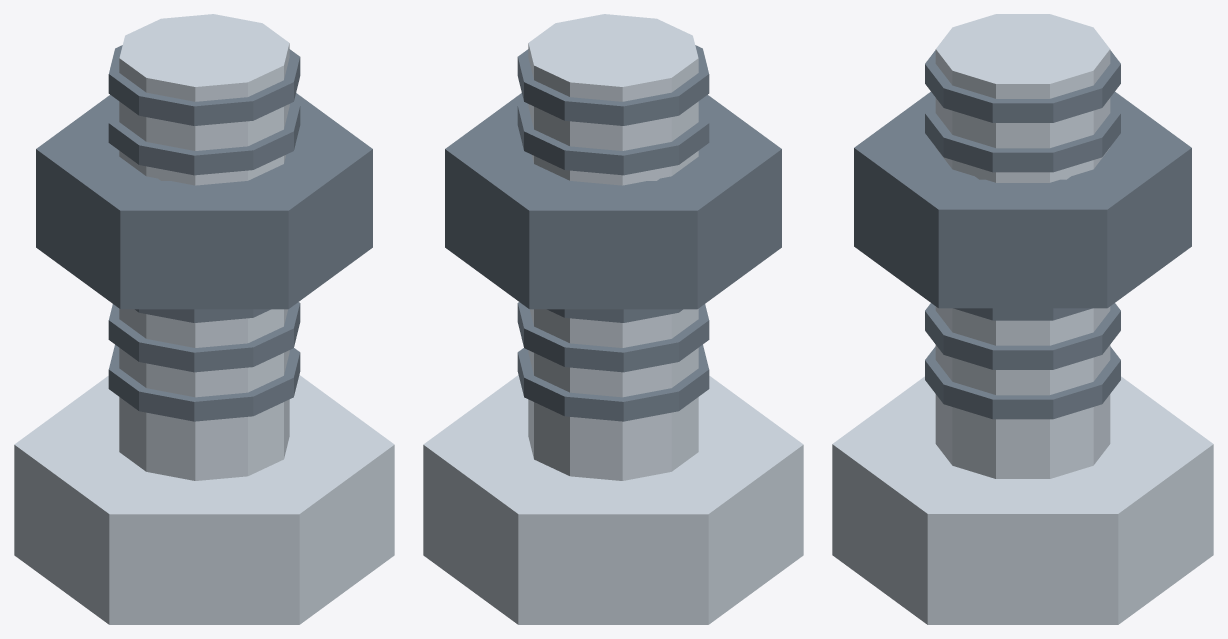
File: item_bolt_chrome.fbx
3 views of the same model, side by side, from view 1: azimuth 30°, elevation 25°; view 2: azimuth 150°, elevation 25°; view 3: azimuth 270°, elevation 25° (orthographic).
Parts seen in each view (by area): view 1: item_bolt_chrome; view 2: item_bolt_chrome; view 3: item_bolt_chrome.
Boxes of the visible parts, box(x1,y1,x2,y2) form: item_bolt_chrome: box(14, 14, 394, 624); item_bolt_chrome: box(423, 14, 803, 624); item_bolt_chrome: box(832, 14, 1213, 624).
Size of the model in its own units: 1.21 by 2.05 by 1.4.
